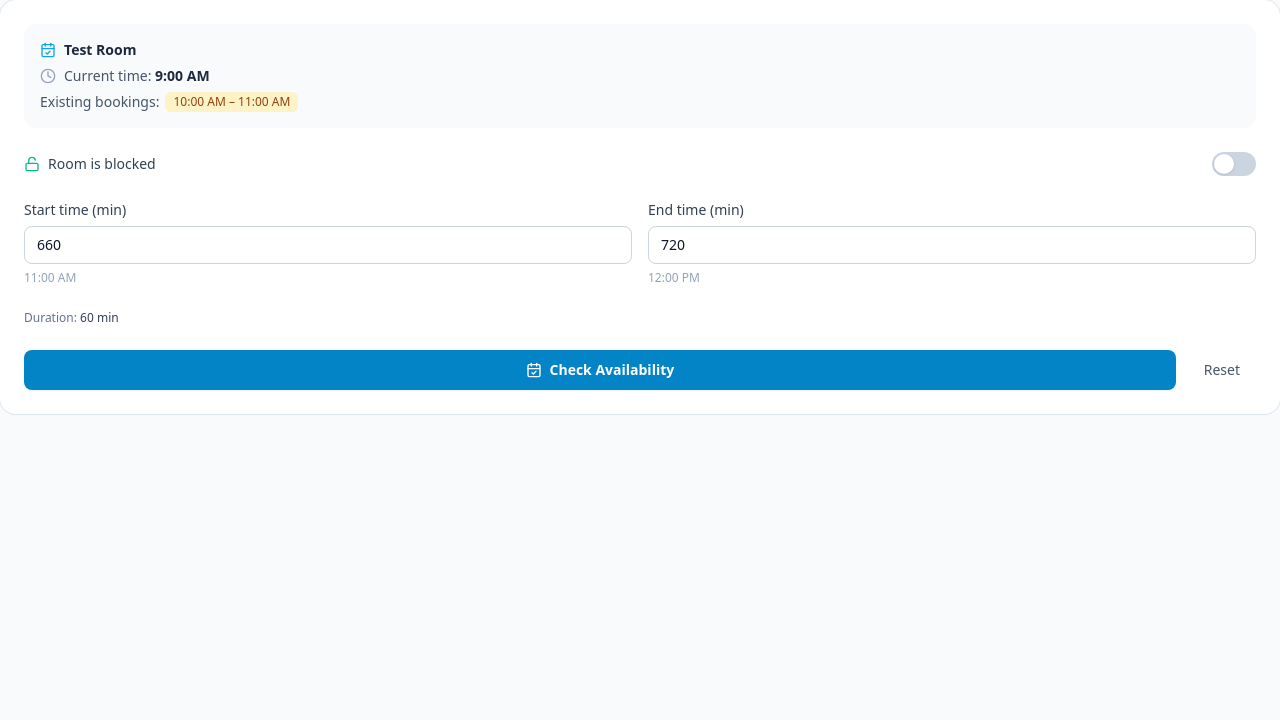
AvailabilityPanel › clears the result on reset
This screenshot has width=1280, height=720.
Click the button "Check Availability".
click(600, 370)  # box [24, 350, 1176, 390]
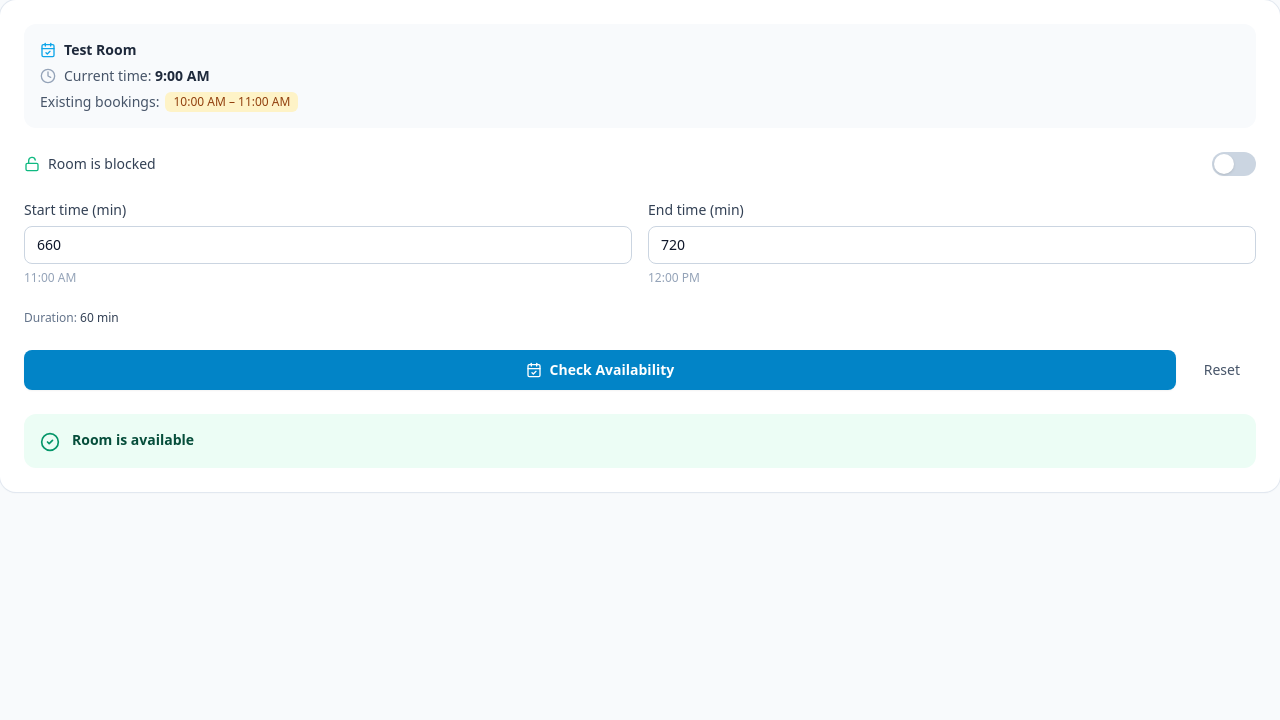
Expected: the text "Room is available" is shown, [72, 430, 194, 450]
Click the button "Reset".
click(1222, 370)  # box [1188, 350, 1256, 390]
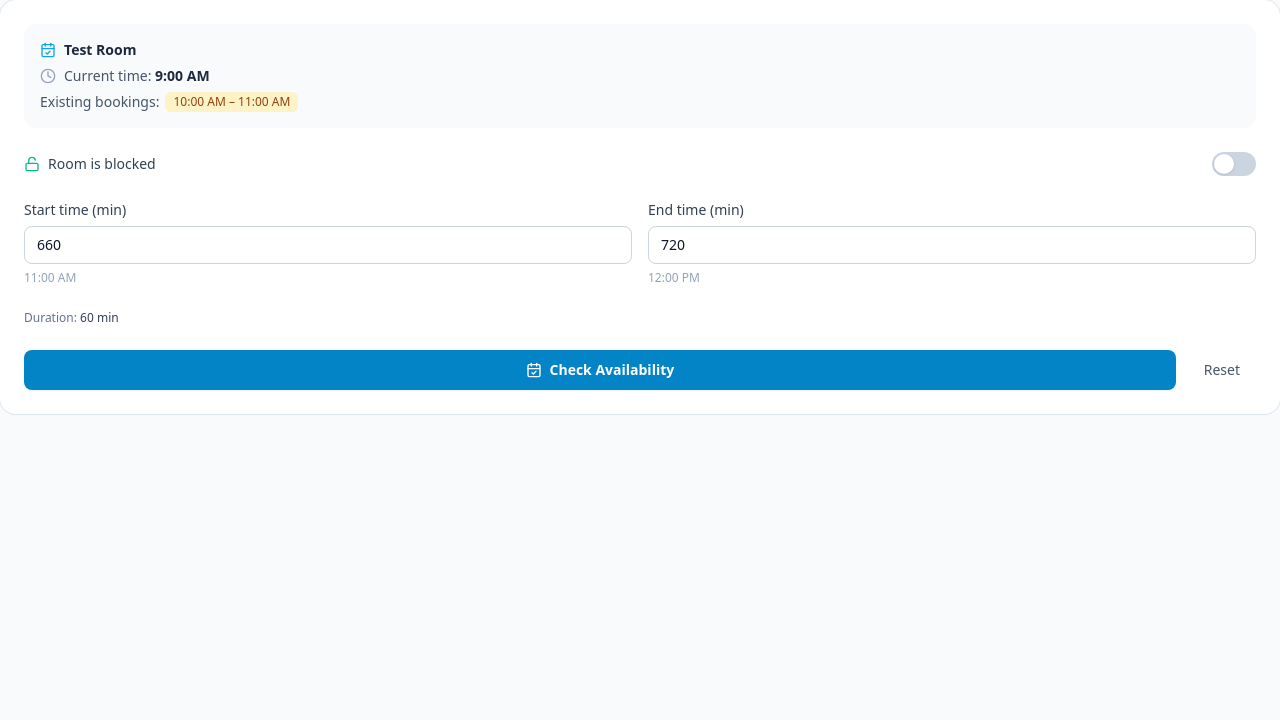
Expected: the text "Room is available" is gone
